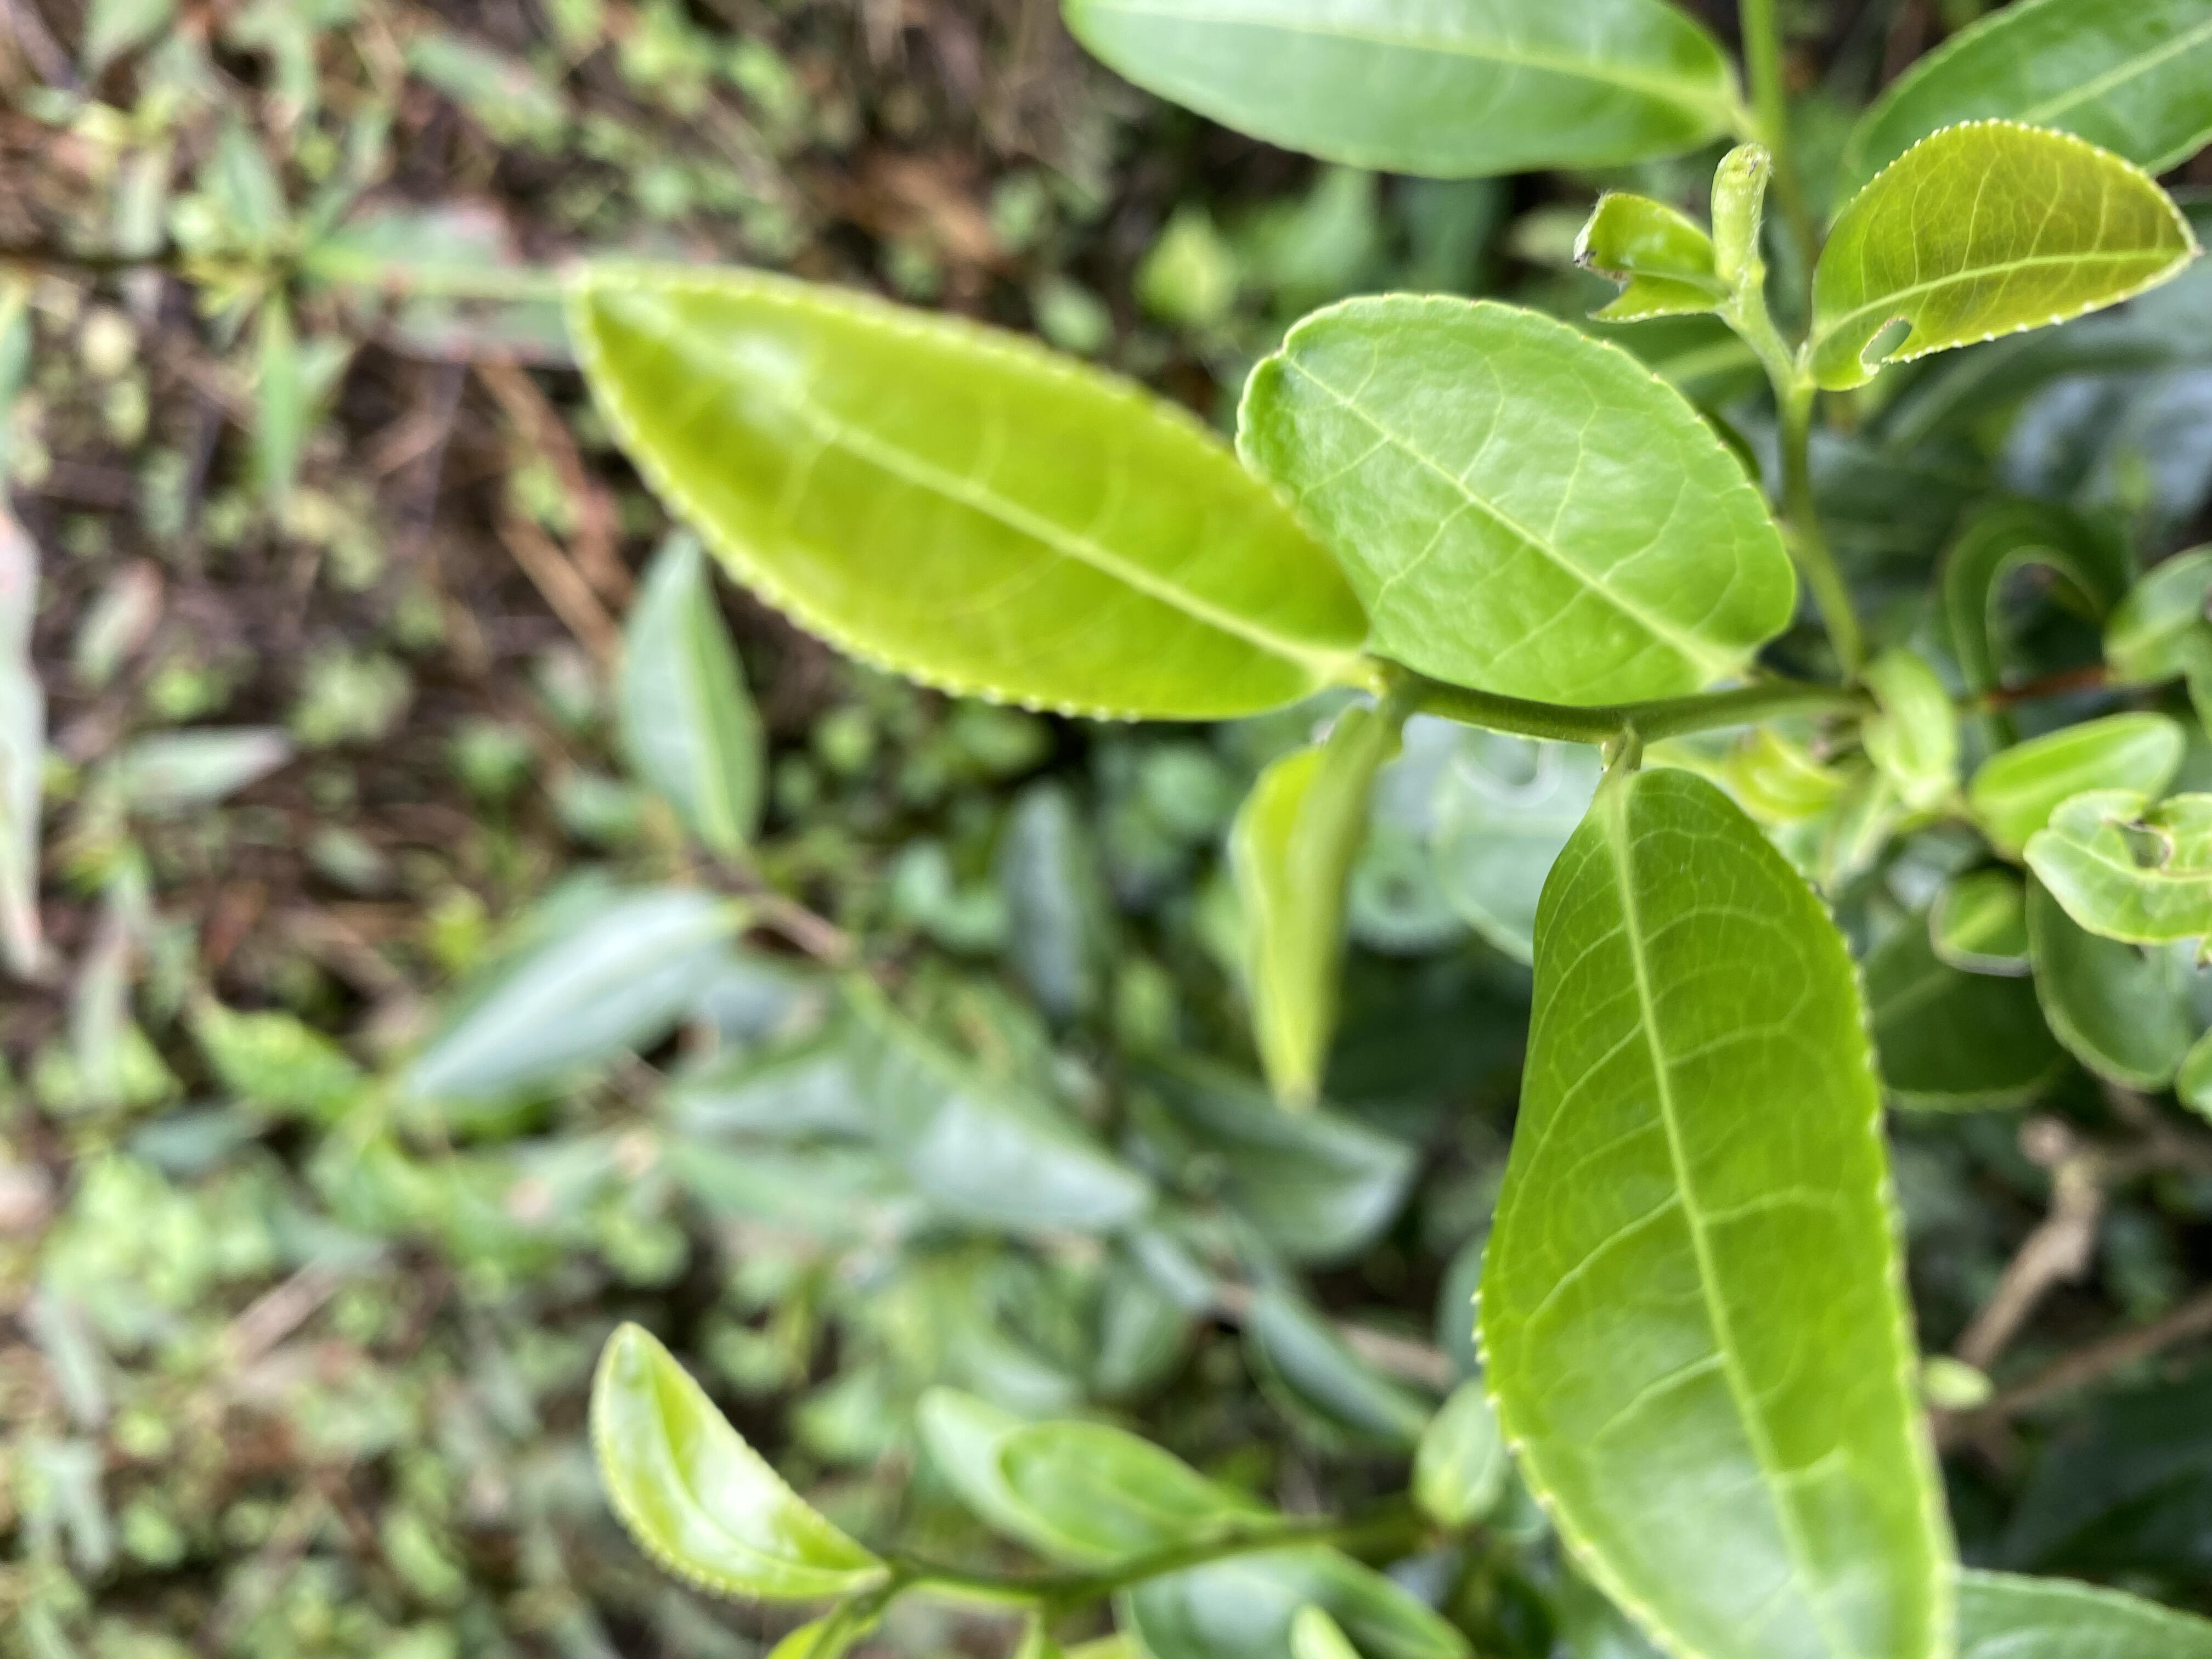chihuo_high: (2020, 784, 2212, 945), (1575, 186, 1733, 324)
chihuo_low: (1801, 119, 2196, 390)
healthy: (1470, 765, 1961, 1656), (575, 268, 1367, 725), (1231, 289, 1799, 709)
